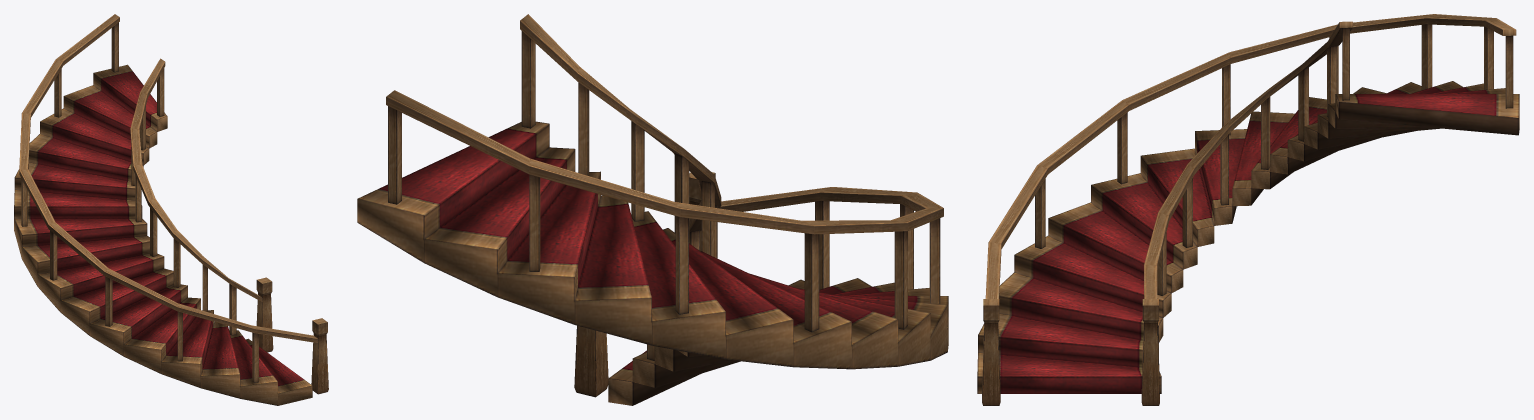
The model's file is a_SCstair02_2.glb.
The picture shows the model from 3 angles, left to right: view 1: azimuth 30°, elevation 25°; view 2: azimuth 150°, elevation 25°; view 3: azimuth 270°, elevation 25°; orthographic projection. The views are drawn at different scales.
Visible parts, largest first — view 1: a_SCstair02_2; view 2: a_SCstair02_2; view 3: a_SCstair02_2.
Part boxes in pixels (box(x1,y1,x2,y2)): a_SCstair02_2: box(14, 14, 328, 405); a_SCstair02_2: box(357, 14, 948, 405); a_SCstair02_2: box(977, 14, 1519, 405).
Size of the model in its own units: 3.02 by 3.63 by 5.
Materials: 1 (1 with a texture image).
